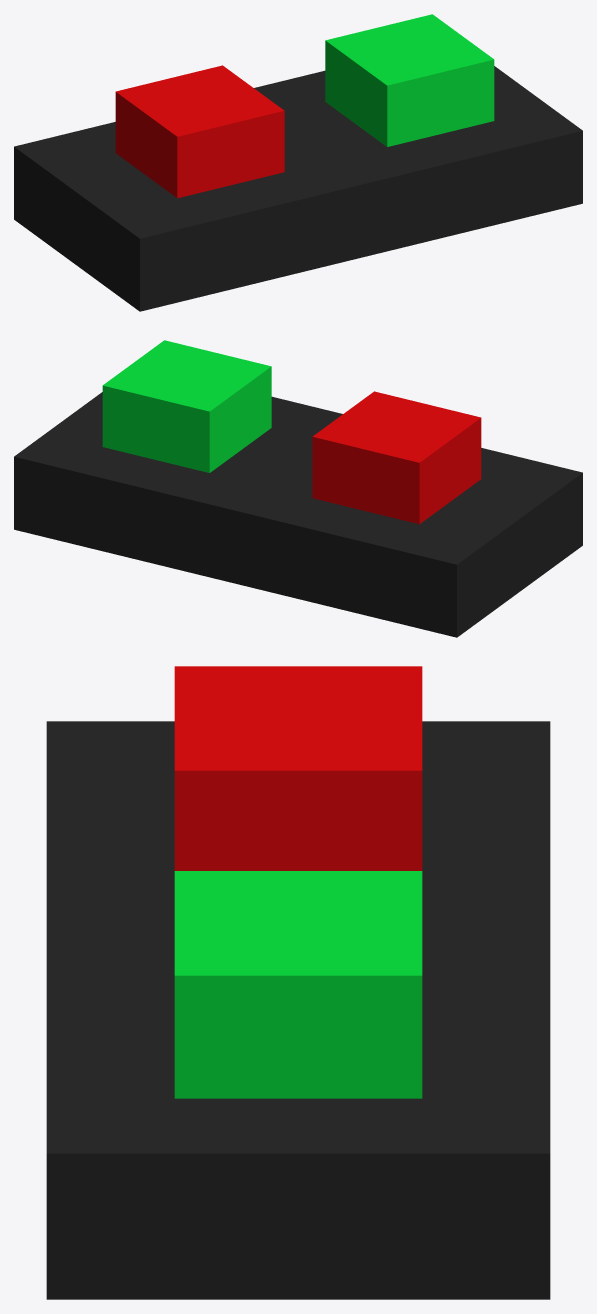
File: pult.fbx
The picture shows the model from 3 angles, top to bottom: view 1: azimuth 30°, elevation 25°; view 2: azimuth 150°, elevation 25°; view 3: azimuth 270°, elevation 25°; orthographic projection. The views are drawn at different scales.
Parts seen in each view (by area): view 1: main, button off, button on; view 2: main, button off, button on; view 3: main, button on, button off.
Boxes of the visible parts, x1,y1,x2,y2 form: main: [14, 66, 582, 311]; button off: [115, 65, 284, 198]; button on: [325, 14, 494, 146]; main: [14, 392, 582, 637]; button off: [312, 391, 481, 524]; button on: [102, 340, 271, 472]; main: [46, 721, 550, 1299]; button on: [174, 871, 422, 1098]; button off: [174, 666, 422, 870].
Bounding box in the file's own units: 113 × 32.88 × 55.81.
